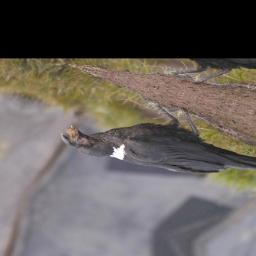Crow: (52, 80, 256, 202)
